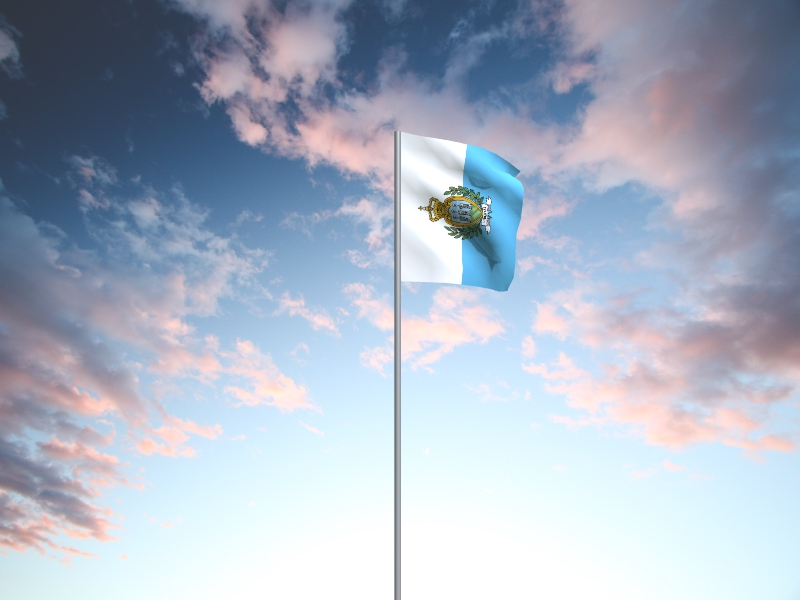sm: (402, 133, 526, 293)
